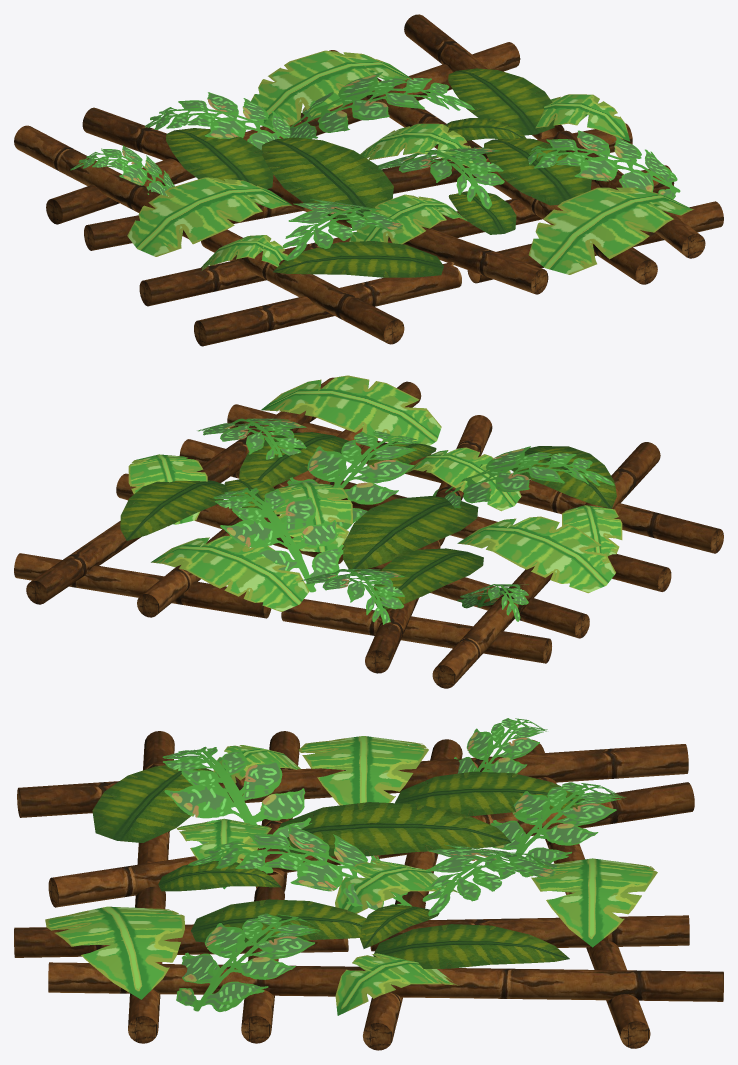
File: MBL_Leaftrap.fbx
The picture shows the model from 3 angles, top to bottom: view 1: azimuth 30°, elevation 25°; view 2: azimuth 150°, elevation 25°; view 3: azimuth 270°, elevation 25°; orthographic projection. The views are drawn at different scales.
Visible parts, largest first — view 1: MBL_Leaftrap; view 2: MBL_Leaftrap; view 3: MBL_Leaftrap.
Part boxes in pixels (<box>): MBL_Leaftrap: <box>14,14,723,346</box>; MBL_Leaftrap: <box>14,375,723,688</box>; MBL_Leaftrap: <box>14,718,723,1050</box>.
Size of the model in its own units: 8 by 1.06 by 8.2.
4 materials, 4 textured.
